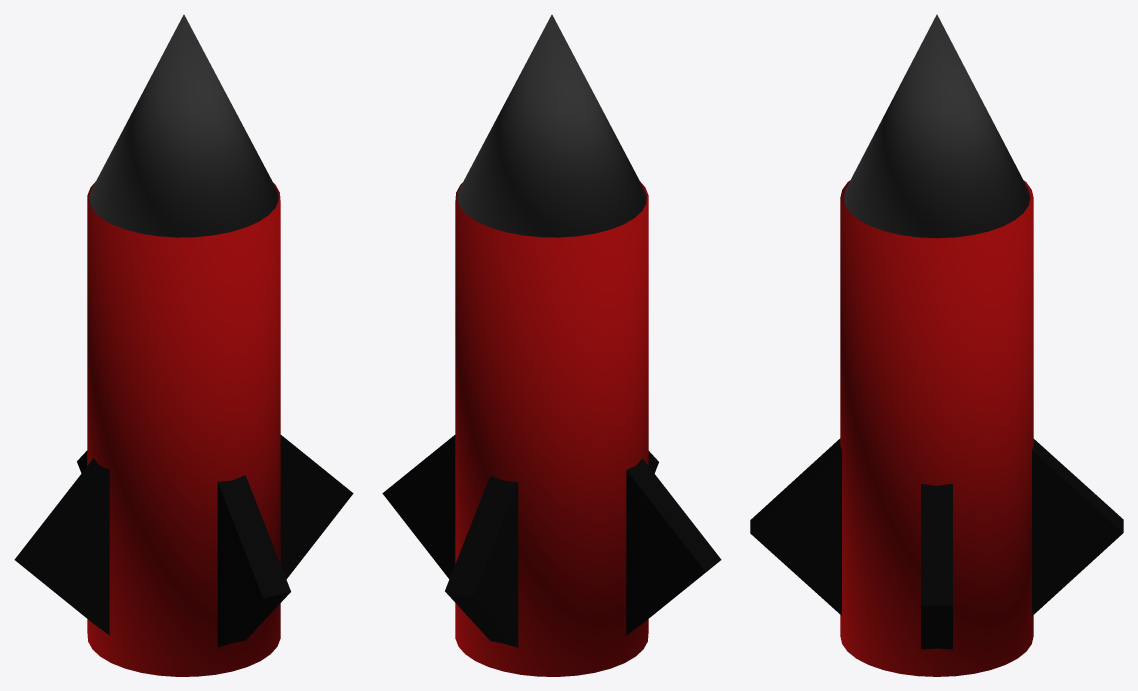
The model's file is rocket.fbx.
3 renders of one model, left to right at view 1: azimuth 30°, elevation 25°; view 2: azimuth 150°, elevation 25°; view 3: azimuth 270°, elevation 25°, orthographic.
Visible parts, largest first — view 1: Rocket; view 2: Rocket; view 3: Rocket.
Part boxes in pixels (box(x1,y1,x2,y2)): Rocket: box(14, 14, 353, 676); Rocket: box(382, 14, 721, 676); Rocket: box(750, 14, 1123, 676).
Size of the model in its own units: 231 by 426 by 231.
